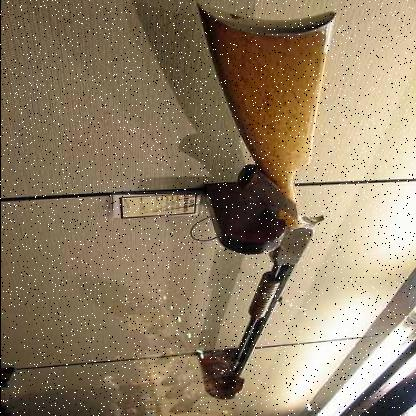rifle: (151, 17, 375, 415)
